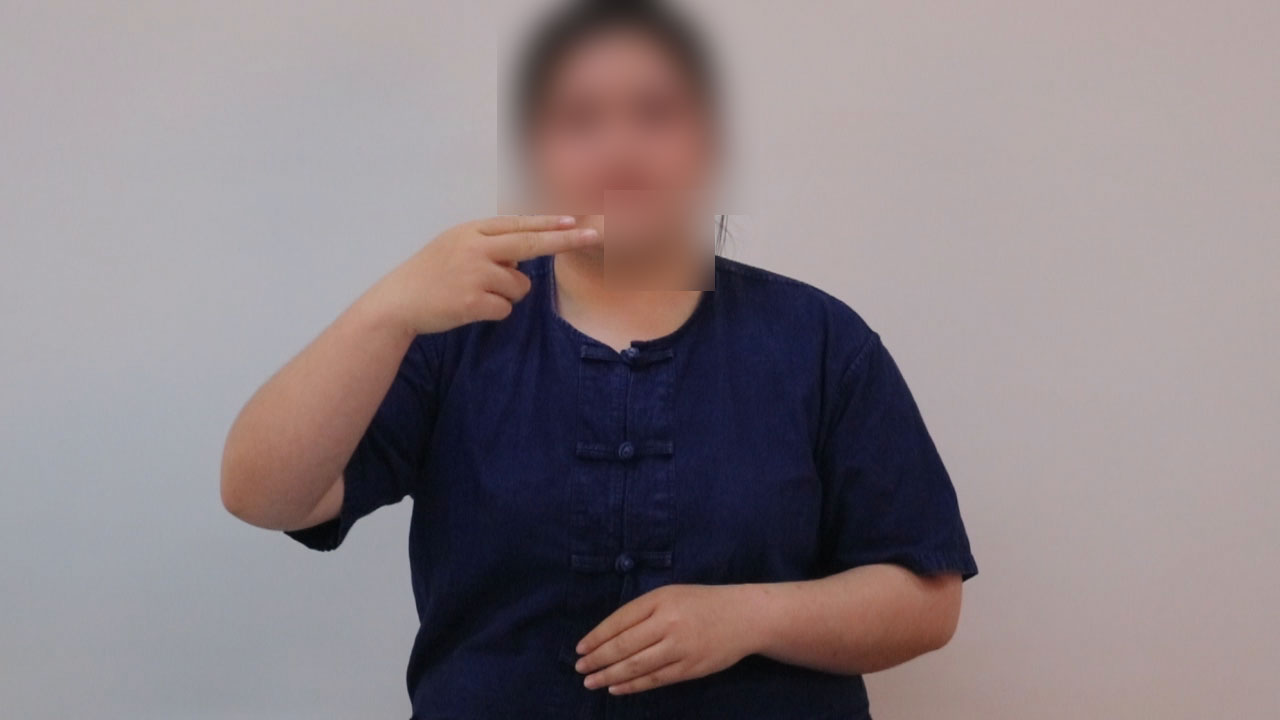hor: (355, 202, 613, 344)
